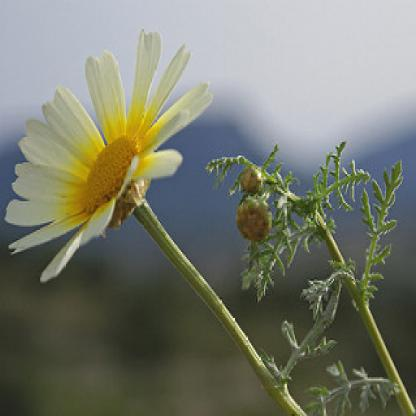ASTER: (4, 16, 225, 294)
